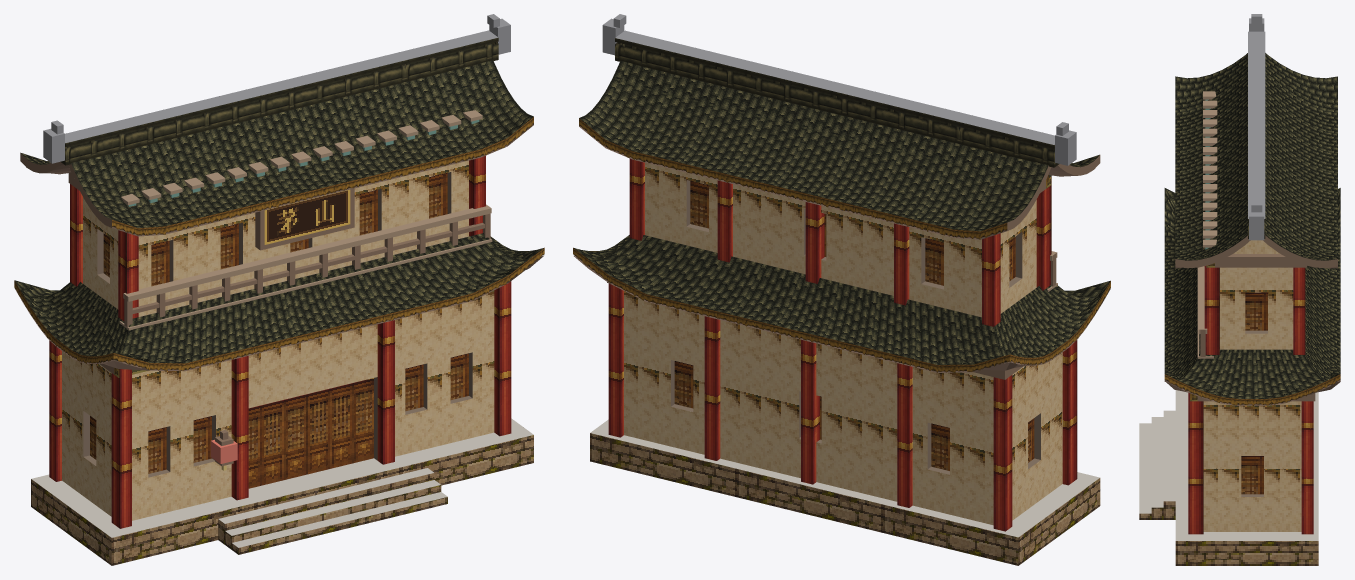
File: g_mosan_hut_o2.glb
The picture shows the model from 3 angles, left to right: view 1: azimuth 30°, elevation 25°; view 2: azimuth 150°, elevation 25°; view 3: azimuth 270°, elevation 25°; orthographic projection. The views are drawn at different scales.
Parts seen in each view (by area): view 1: roof, plaster, post, stone, stonetop, door, ridge, woodl, eave, win, wood, ridgeend (+3 smaller); view 2: plaster, roof, post, stone, ridge, eave, ridgeend, stonetop, win, reveal, under, wood; view 3: roof, plaster, stonetop, post, stone, ridgeend, woodl, wood, win, eave, under.
Part boxes in pixels (box(x1,y1,x2,y2)): roof: box(14, 60, 543, 363); plaster: box(62, 160, 494, 520); post: box(49, 155, 511, 528); stone: box(31, 435, 533, 565); stonetop: box(31, 418, 533, 547); door: box(248, 378, 373, 488); ridge: box(60, 37, 498, 165); woodl: box(119, 110, 492, 330); eave: box(14, 117, 544, 370); win: box(90, 173, 468, 473); wood: box(20, 124, 533, 466); ridgeend: box(43, 14, 510, 163); plaster: box(624, 162, 1062, 525); roof: box(574, 60, 1110, 364); post: box(608, 158, 1077, 531); stone: box(590, 433, 1100, 565); ridge: box(615, 38, 1058, 167); eave: box(573, 118, 1110, 372); ridgeend: box(602, 14, 1076, 165); stonetop: box(590, 419, 1099, 537); win: box(674, 181, 1034, 470); reveal: box(671, 180, 1040, 474); under: box(574, 126, 1110, 372); wood: box(579, 125, 1100, 379); roof: box(1164, 53, 1340, 398); plaster: box(1203, 240, 1301, 531); stonetop: box(1139, 390, 1318, 540); post: box(1188, 266, 1313, 534); stone: box(1139, 501, 1318, 565); ridgeend: box(1248, 14, 1265, 240); woodl: box(1197, 91, 1217, 358); wood: box(1175, 235, 1337, 401); win: box(1241, 292, 1267, 494); eave: box(1164, 374, 1340, 405); under: box(1164, 266, 1340, 405).
Bounding box in the file's own units: 85.6 × 73.31 × 36.68.
Materials: 19 (10 with a texture image).
